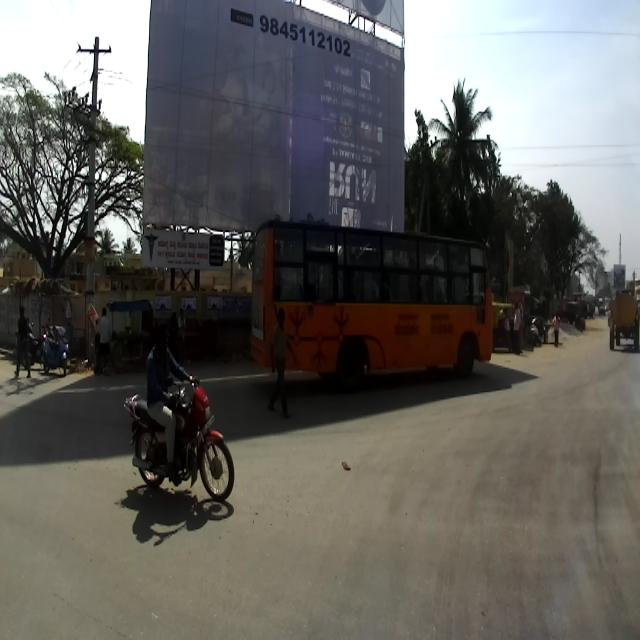bus ahead at: (250, 210, 498, 404)
motorcycle ahead at: (128, 374, 238, 503)
